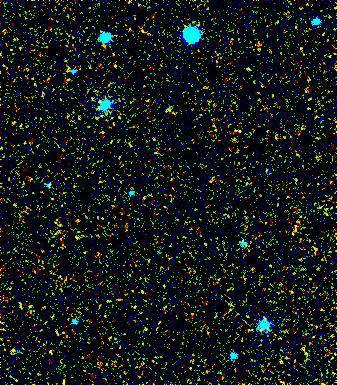star: (233, 54, 263, 84)
